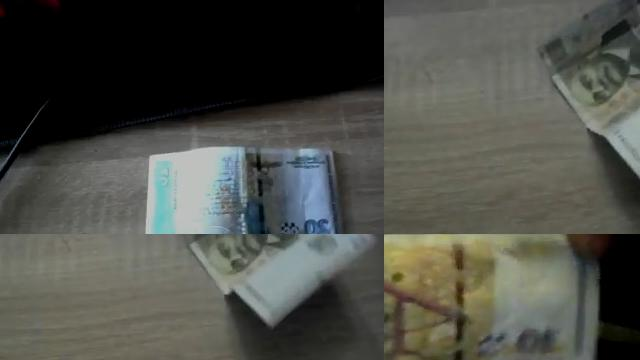10leva: (384, 234, 597, 360), (181, 234, 378, 330)
20leva: (144, 147, 341, 234)
